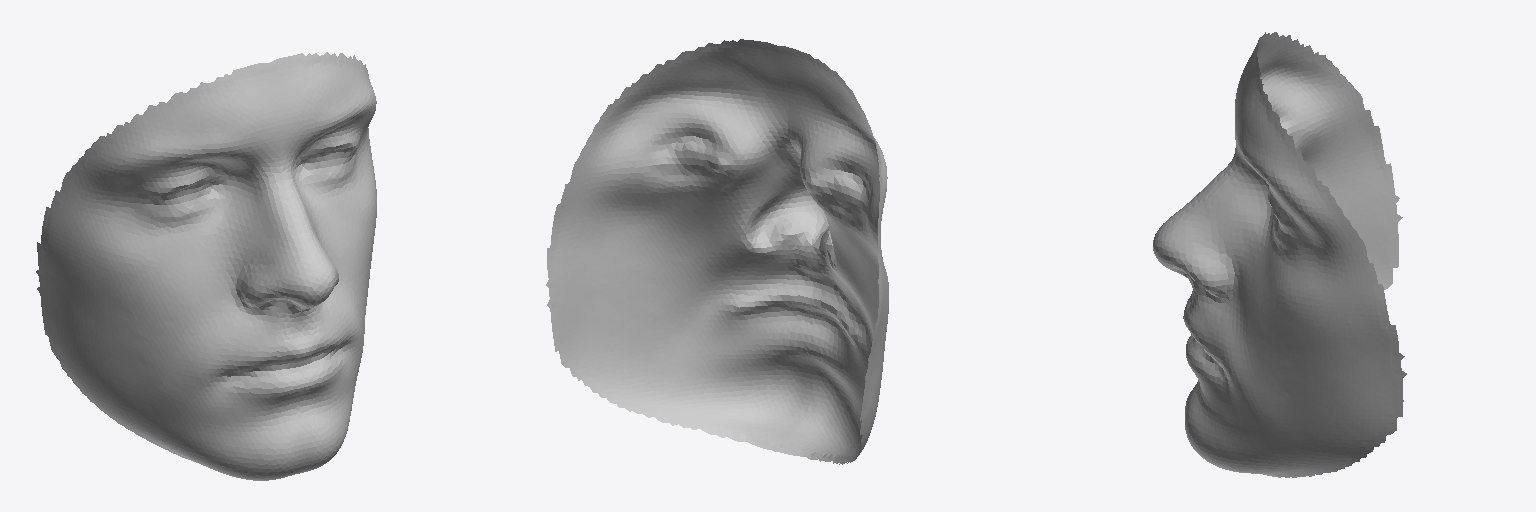
File: SIMPOP_19.obj
The picture shows the model from 3 angles: view 1: azimuth 30°, elevation 25°; view 2: azimuth 150°, elevation 25°; view 3: azimuth 270°, elevation 25°; orthographic projection.
Visible parts, largest first — view 1: SIMPOP_19; view 2: SIMPOP_19; view 3: SIMPOP_19.
Boxes of the visible parts, x1,y1,x2,y2 form: SIMPOP_19: [36, 52, 376, 480]; SIMPOP_19: [546, 39, 888, 464]; SIMPOP_19: [1153, 32, 1406, 477].
Size of the model in its own units: 132 by 157 by 89.27.